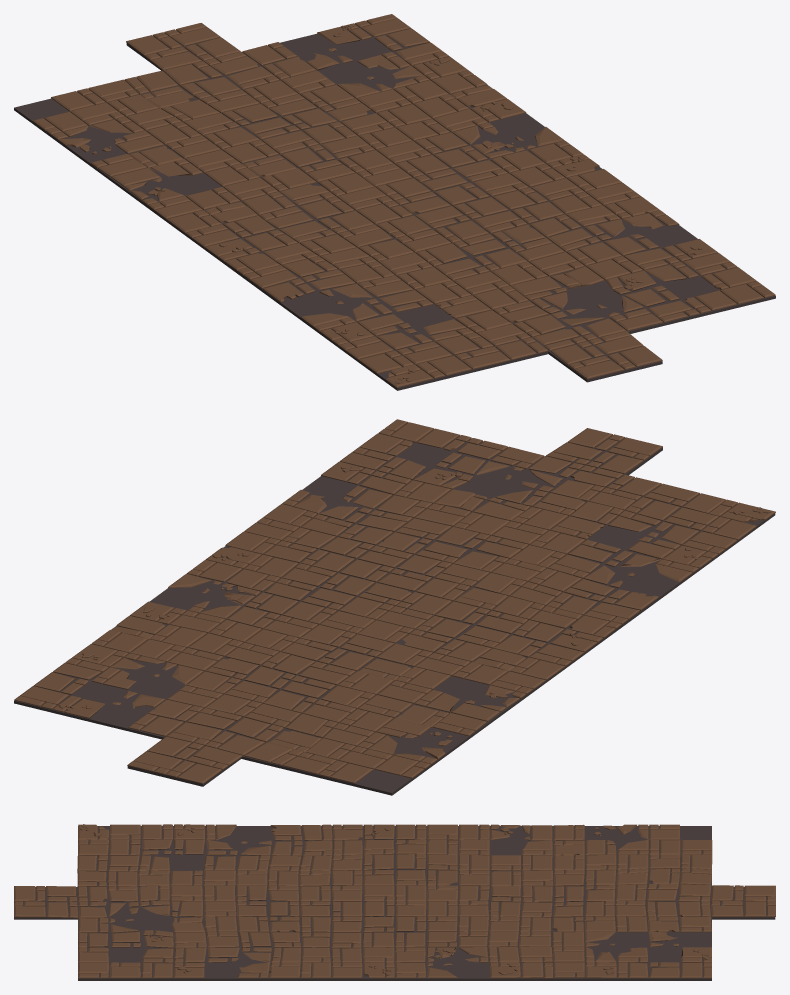
Rendered from GroundStoneSlabsNew.fbx.
The picture shows the model from 3 angles, top to bottom: view 1: azimuth 30°, elevation 25°; view 2: azimuth 150°, elevation 25°; view 3: azimuth 270°, elevation 25°; orthographic projection. The views are drawn at different scales.
Visible parts, largest first — view 1: StoneSlabs_03, Ground_03, StoneSlabsSmall_03; view 2: StoneSlabs_03, Ground_03, StoneSlabsSmall_03; view 3: StoneSlabs_03, Ground_03, StoneSlabsSmall_03.
Boxes of the visible parts, x1=… form: StoneSlabs_03: x1=32, y1=14, x2=775, y2=387; Ground_03: x1=14, y1=22, x2=775, y2=390; StoneSlabsSmall_03: x1=80, y1=24, x2=702, y2=383; StoneSlabs_03: x1=14, y1=419, x2=775, y2=783; Ground_03: x1=14, y1=432, x2=775, y2=795; StoneSlabsSmall_03: x1=58, y1=465, x2=770, y2=745; StoneSlabs_03: x1=14, y1=824, x2=775, y2=978; Ground_03: x1=14, y1=826, x2=775, y2=980; StoneSlabsSmall_03: x1=80, y1=824, x2=709, y2=975.
Size of the model in its own units: 1600 by 24.27 by 3366.
